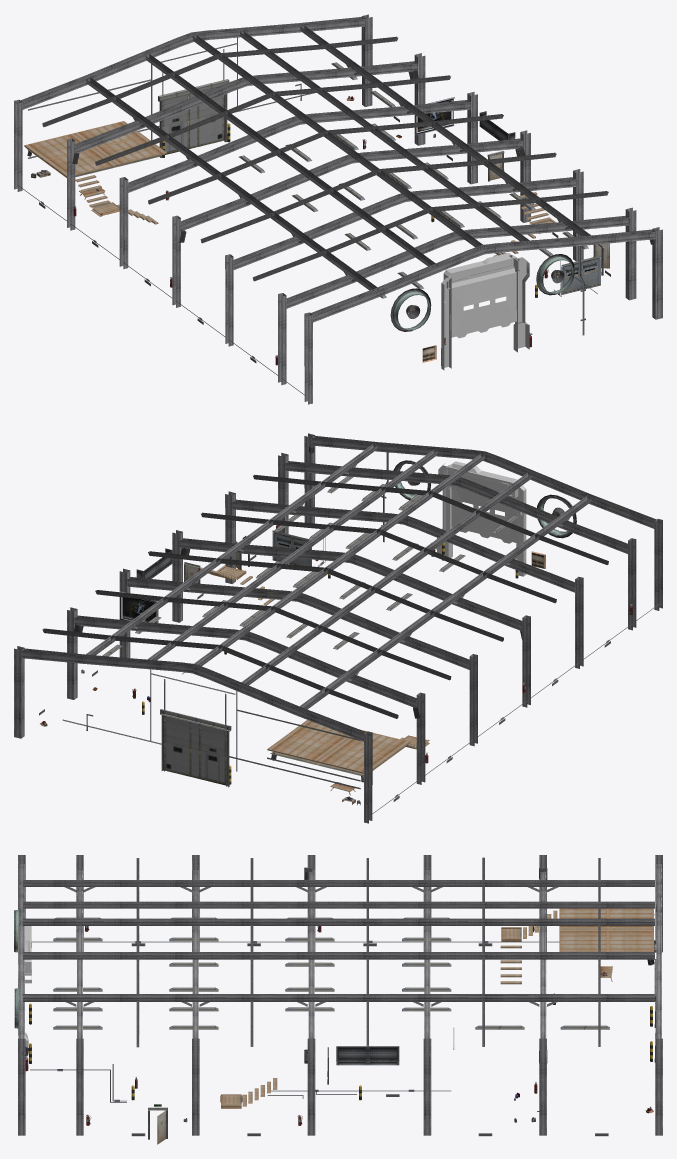
The model's file is Scene_Garage03_Door02.fbx.
3 renders of one model, top to bottom at view 1: azimuth 30°, elevation 25°; view 2: azimuth 150°, elevation 25°; view 3: azimuth 270°, elevation 25°, orthographic. The views are drawn at different scales.
Parts seen in each view (by area): view 1: Scene_Garage03_Door02A, Scene_Garage03_Door02C, Scene_Garage03_Door02B; view 2: Scene_Garage03_Door02A, Scene_Garage03_Door02C, Scene_Garage03_Door02B; view 3: Scene_Garage03_Door02A, Scene_Garage03_Door02C, Scene_Garage03_Door02B.
Boxes of the visible parts, bbox=[...] form: Scene_Garage03_Door02A: bbox=[14, 14, 662, 404]; Scene_Garage03_Door02C: bbox=[18, 37, 653, 395]; Scene_Garage03_Door02B: bbox=[441, 253, 529, 370]; Scene_Garage03_Door02A: bbox=[14, 433, 662, 823]; Scene_Garage03_Door02C: bbox=[39, 445, 659, 814]; Scene_Garage03_Door02B: bbox=[437, 461, 526, 576]; Scene_Garage03_Door02A: bbox=[18, 855, 662, 1135]; Scene_Garage03_Door02C: bbox=[14, 867, 656, 1144]; Scene_Garage03_Door02B: bbox=[18, 925, 31, 1047].
Bounding box in the file's own units: 4072 × 1222 × 5693.
